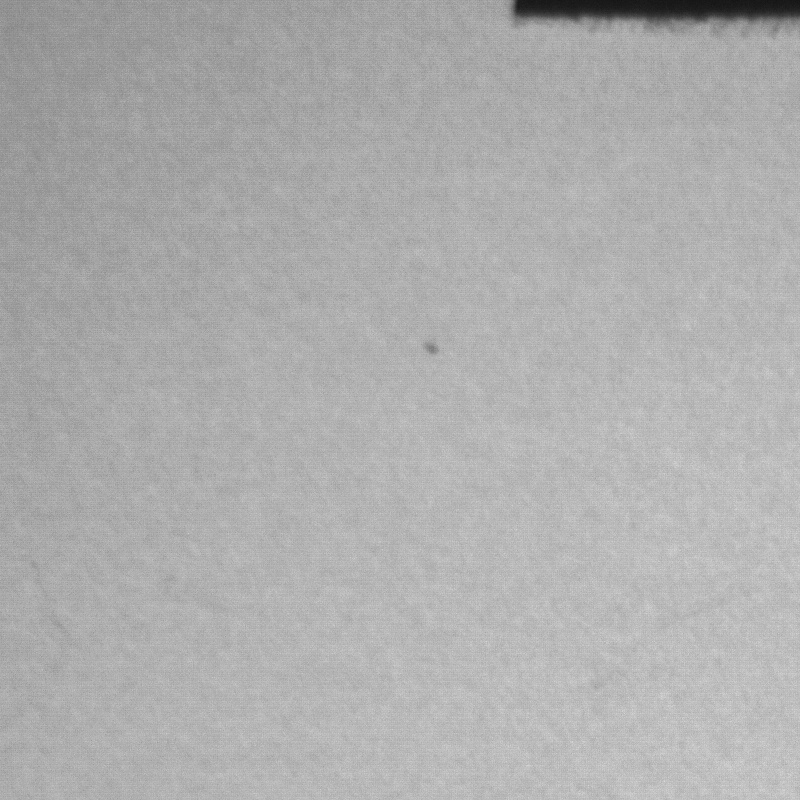defect: (425, 339, 443, 357)
